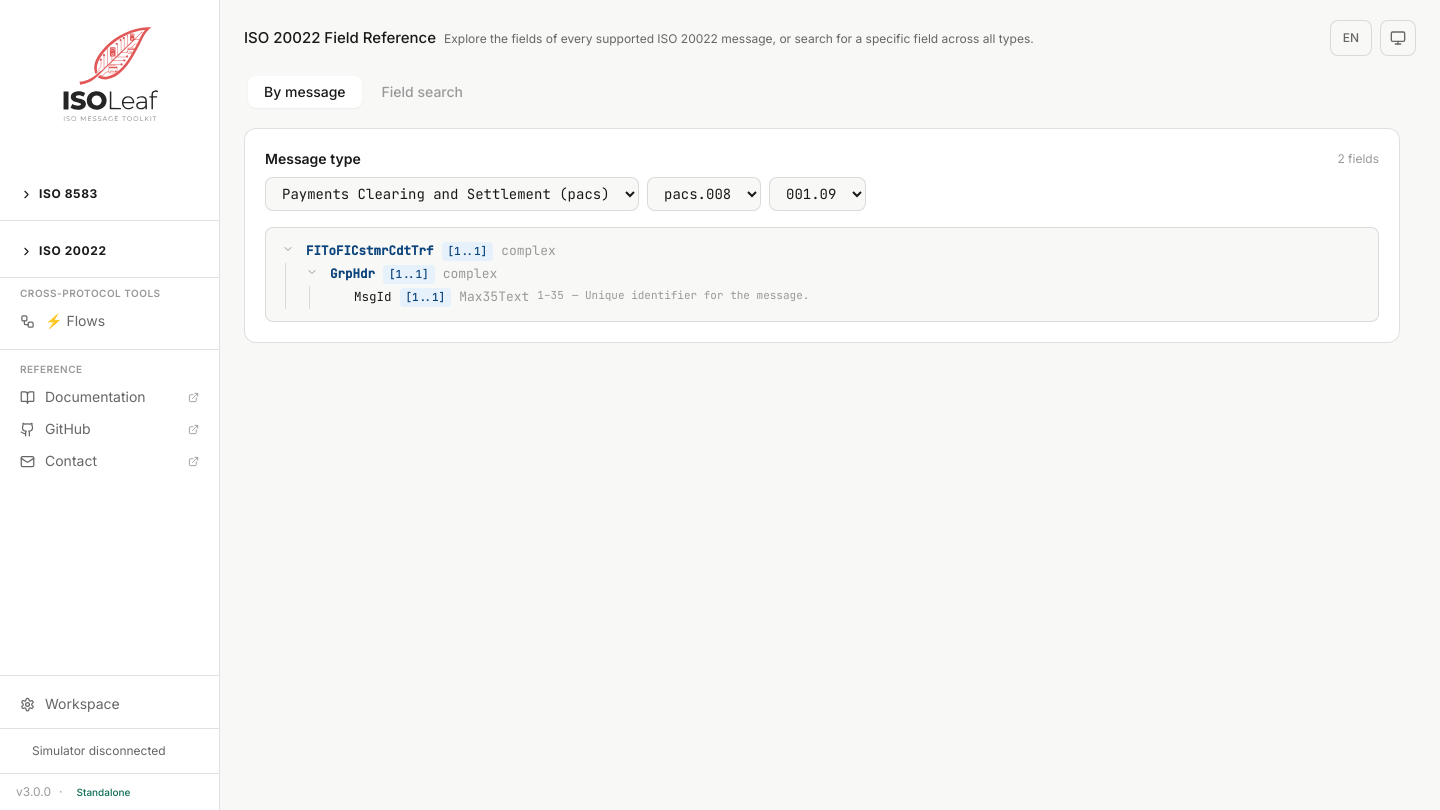
Test: Iso20022ReferencePage › clicking a field in the tree opens the FieldDetailPanel
What coordinates should you click on to do the following:
click the text "MsgId"
I would click on:
 (373, 297)
Its box is [354, 288, 392, 306].
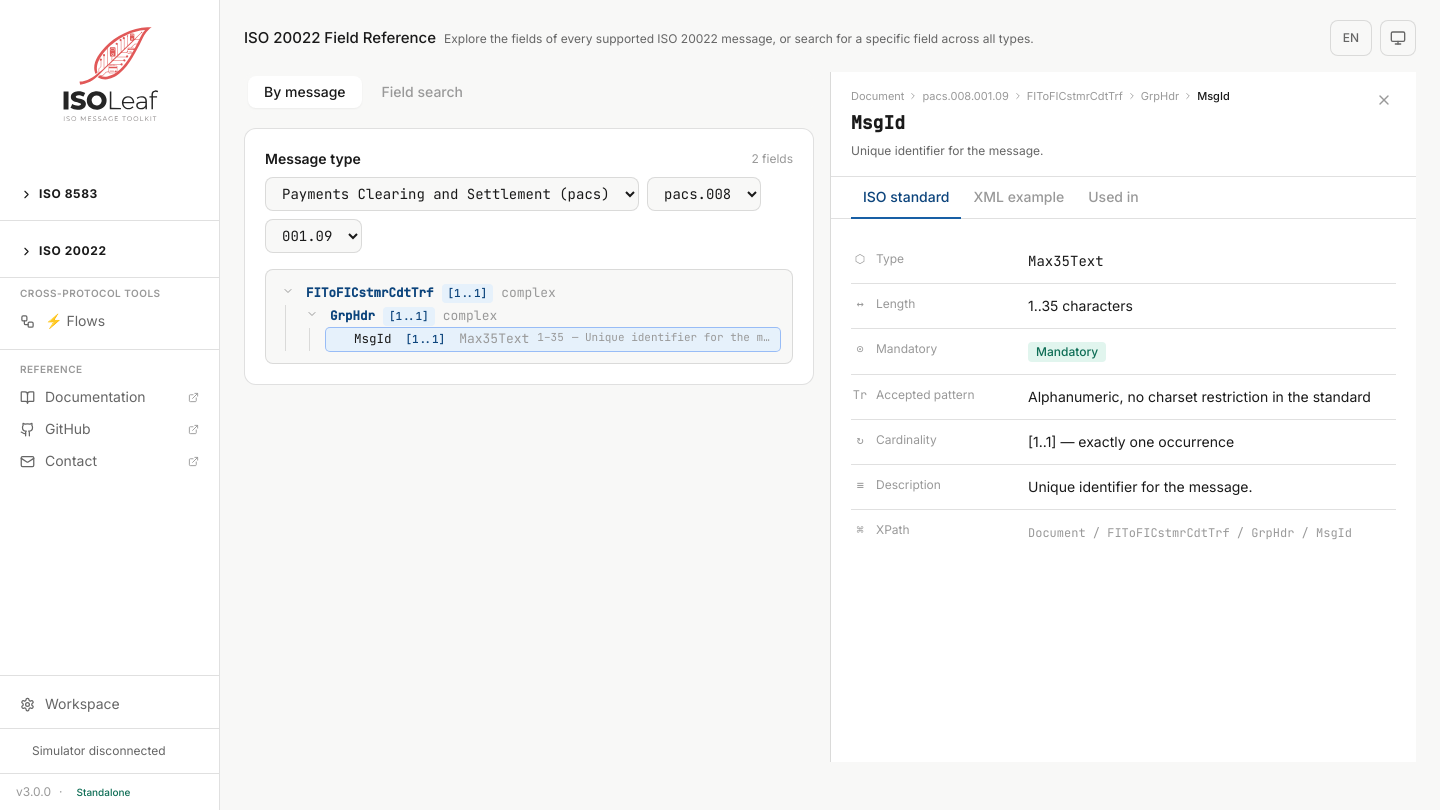
Now the element with test id "iso20022-field-detail-panel" is shown, box [831, 72, 1416, 762]
Now the button with test id "field-detail-tab-iso" is shown, box [851, 177, 962, 219]
Now the button with test id "field-detail-tab-xml" is shown, box [962, 177, 1076, 219]
